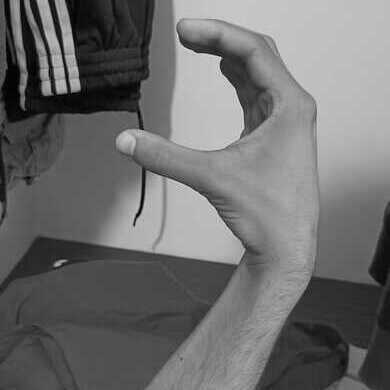C: (112, 15, 323, 279)
